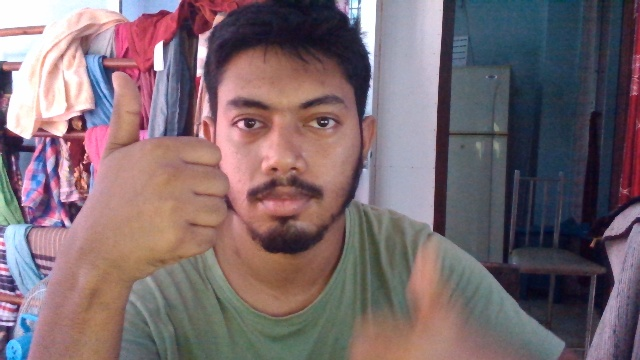yes: (81, 66, 230, 279)
